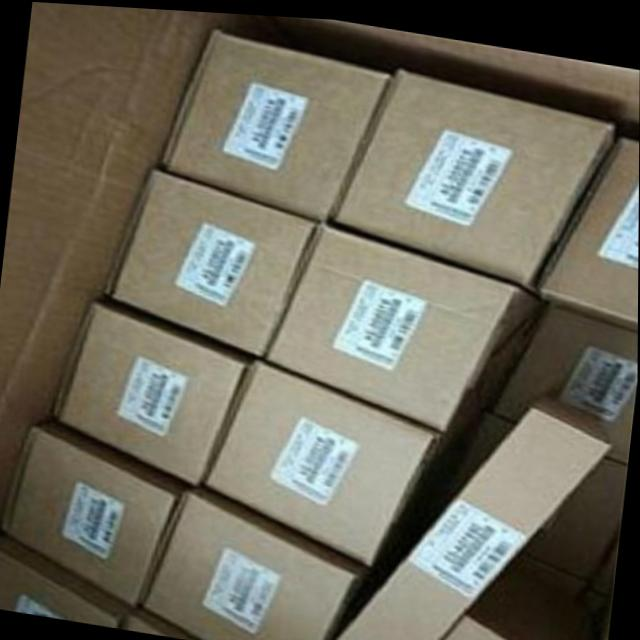box: (329, 386, 609, 640), (333, 62, 616, 285), (264, 218, 547, 427), (204, 357, 460, 559), (160, 26, 392, 218), (52, 292, 260, 481), (104, 167, 315, 353), (0, 414, 197, 606), (140, 479, 371, 640), (490, 294, 638, 458), (539, 129, 639, 325), (520, 449, 627, 571), (438, 564, 601, 640), (0, 534, 130, 626), (117, 605, 206, 640)
